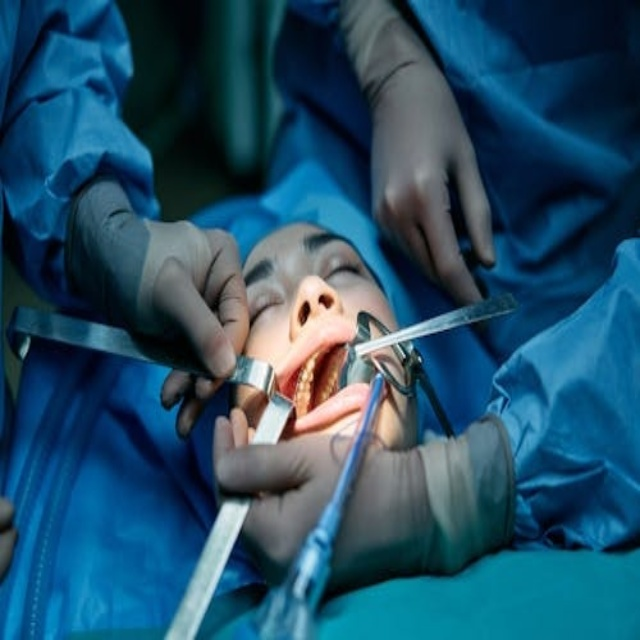Guantes: (211, 400, 517, 596), (333, 0, 495, 309), (69, 167, 248, 429)
Sin_gafas: (250, 236, 385, 305)
